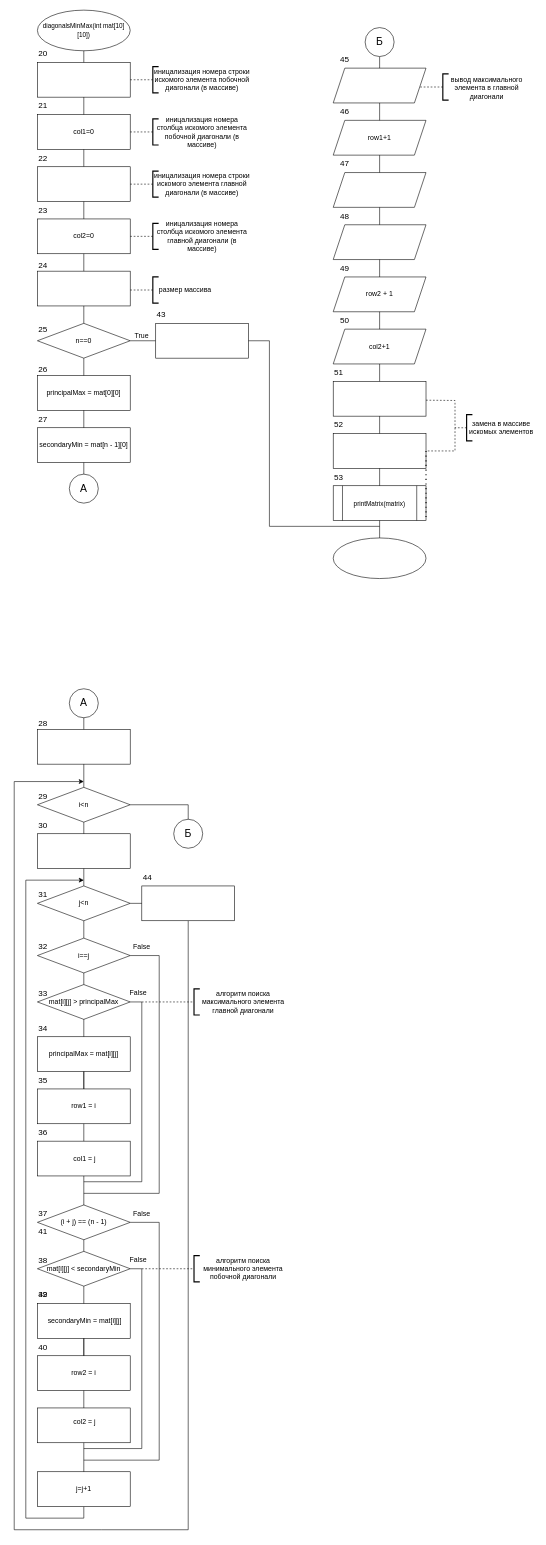
Some shapes in this 546 by 1545 pixel diagram are drawn without their labels. The centre of each missing label's shape, as x and y in pixels:
col1+1: (x=379, y=189)
i=1: (x=83, y=746)
i=i+1: (x=188, y=903)
j=1: (x=83, y=851)
mat[row1][col1] = secondaryMin: (x=379, y=398)
mat[row2][col2] = principalMax: (x=379, y=450)
n = sizeof(*mat) / 4;: (x=83, y=288)
principalMax: (x=379, y=85)
return: (x=202, y=340)
row1=0: (x=83, y=79)
row2=0: (x=83, y=184)
secondaryMin: (x=379, y=242)
Конец: (x=379, y=558)
